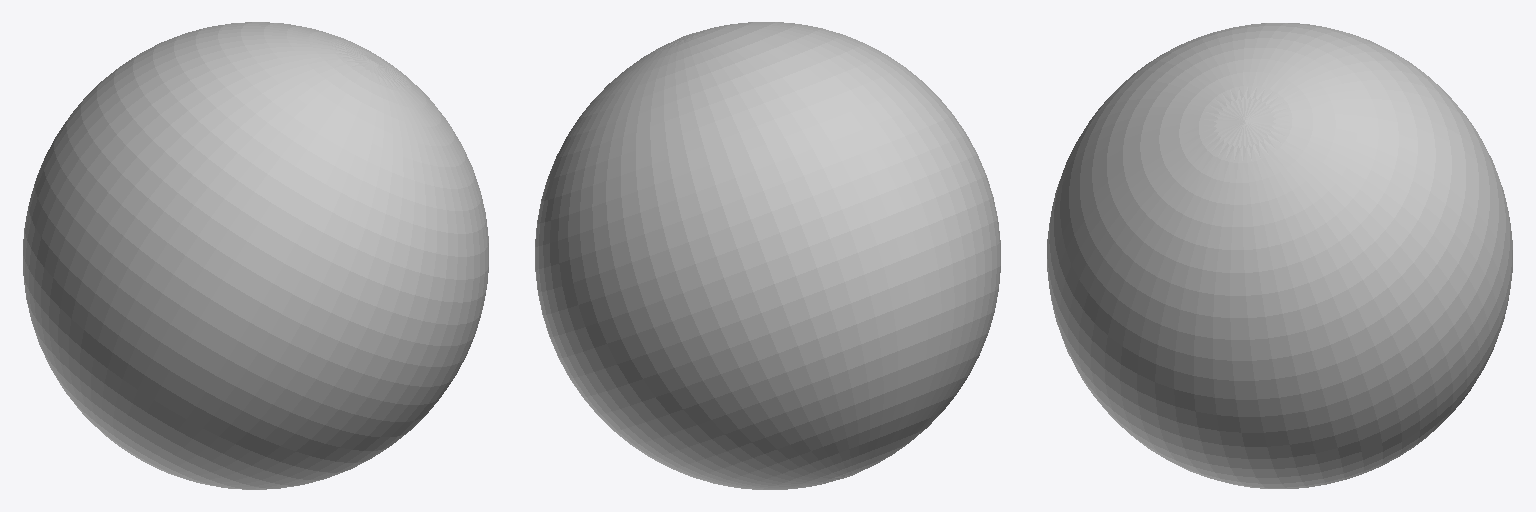
File: enceladus.obj
3 views of the same model, side by side, from view 1: azimuth 30°, elevation 25°; view 2: azimuth 150°, elevation 25°; view 3: azimuth 270°, elevation 25° (orthographic).
Parts seen in each view (by area): view 1: Sphere; view 2: Sphere; view 3: Sphere.
Part boxes in pixels (left/top/right/bottom): Sphere: left=23, top=22, right=488, bottom=489; Sphere: left=535, top=22, right=1000, bottom=489; Sphere: left=1047, top=23, right=1512, bottom=488.
Bounding box in the file's own units: 1.98 × 1.98 × 1.97.